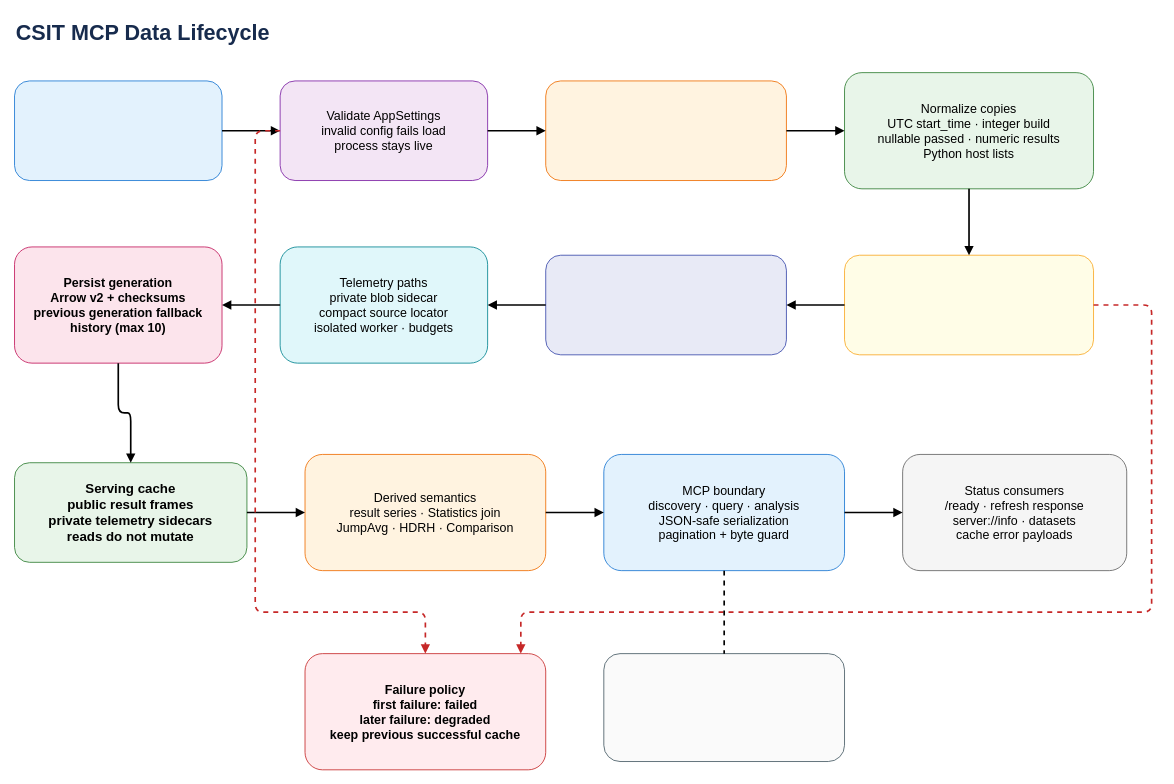
The diagram is 1174 pixels wide and 784 high, and some of its shapes have lost their labels. The shapes that lost their labels are listed below. From the top down, each one's centre as x and y in pixels, then its label:
At pixel 118 130: "FastMCP lifespan restore local snapshot refresh + scheduler".
At pixel 665 130: "Read source required then optional S3 retries or fixtures".
At pixel 665 304: "Publish result cache ready or degraded /ready can serve now".
At pixel 969 304: "Check required data statistics + trending initial absence = failed".
At pixel 724 707: "JSON operational events refresh · publish · telemetry tool/resource · size guard".
